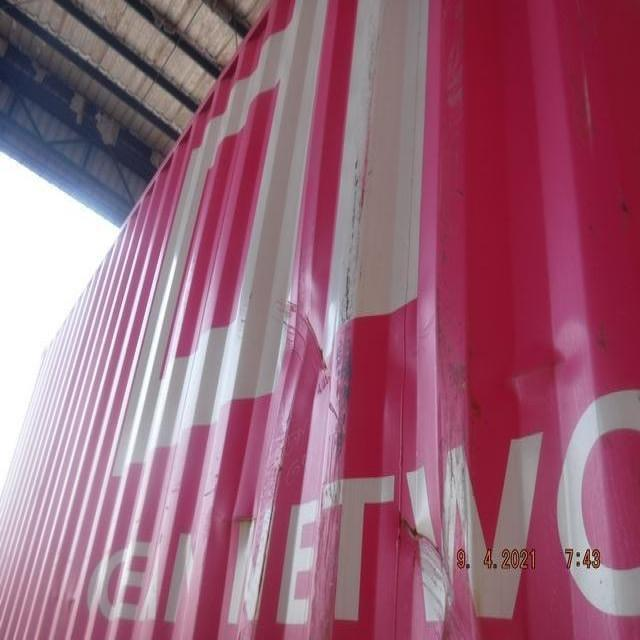dent: (244, 263, 361, 431), (461, 314, 600, 412), (389, 507, 487, 631), (200, 484, 281, 557)
